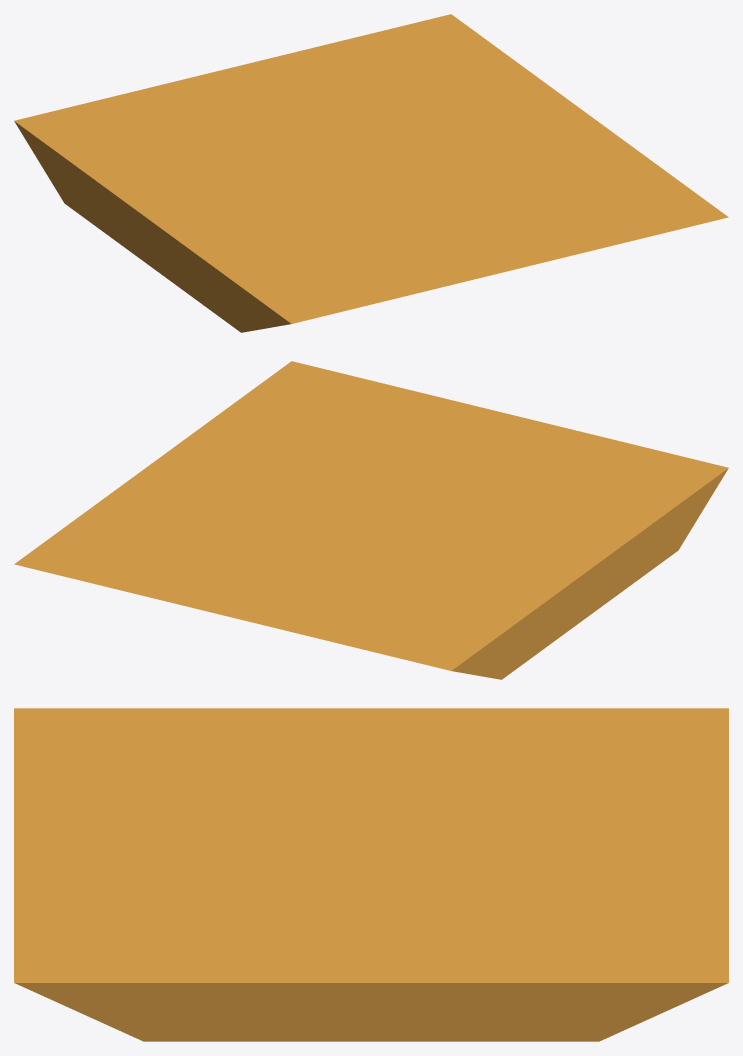
Rendered from scifi-floor-corridor.fbx.
3 renders of one model, top to bottom at view 1: azimuth 30°, elevation 25°; view 2: azimuth 150°, elevation 25°; view 3: azimuth 270°, elevation 25°, orthographic. The views are drawn at different scales.
Visible parts, largest first — view 1: scifi-floor-corridor; view 2: scifi-floor-corridor; view 3: scifi-floor-corridor.
Part boxes in pixels (<box>): scifi-floor-corridor: <box>14,14,728,332</box>; scifi-floor-corridor: <box>14,361,728,679</box>; scifi-floor-corridor: <box>14,708,728,1041</box>.
Size of the model in its own units: 4 by 0.4 by 4.4.
